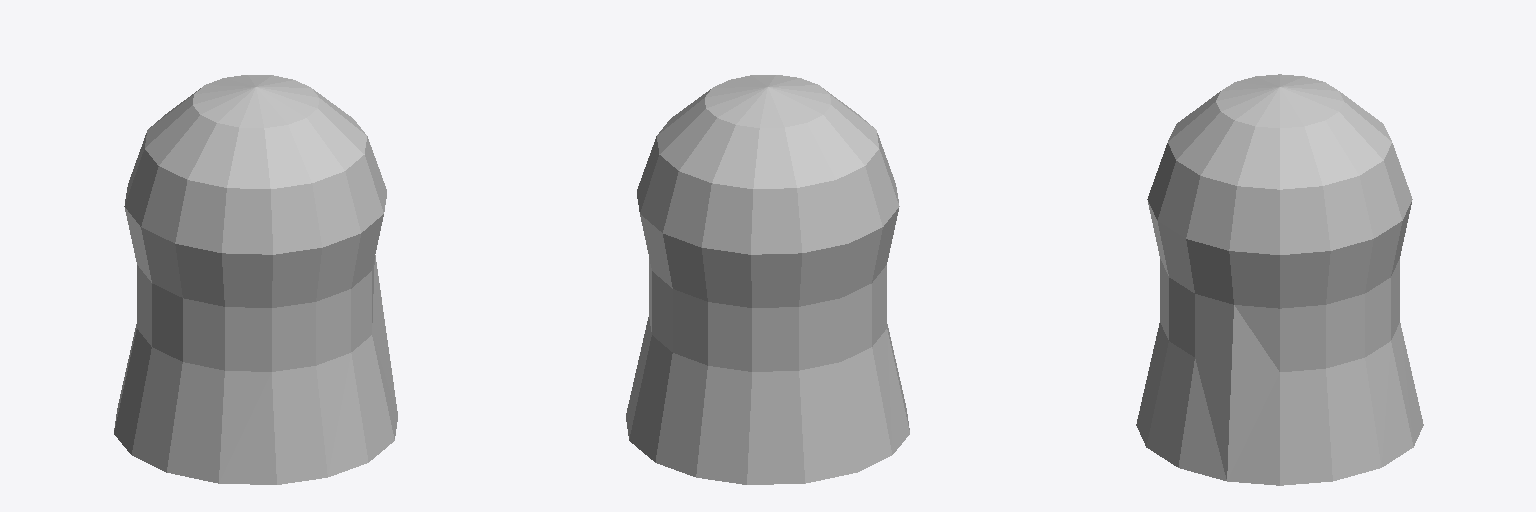
The model's file is Head.obj.
3 renders of one model, left to right at view 1: azimuth 30°, elevation 25°; view 2: azimuth 150°, elevation 25°; view 3: azimuth 270°, elevation 25°, orthographic.
Parts seen in each view (by area): view 1: Default; view 2: Default; view 3: Default.
Part boxes in pixels (bbox=[...]): Default: bbox=[114, 75, 397, 484]; Default: bbox=[626, 75, 909, 484]; Default: bbox=[1136, 74, 1423, 485].
Size of the model in its own units: 11.4 by 14.79 by 11.4.